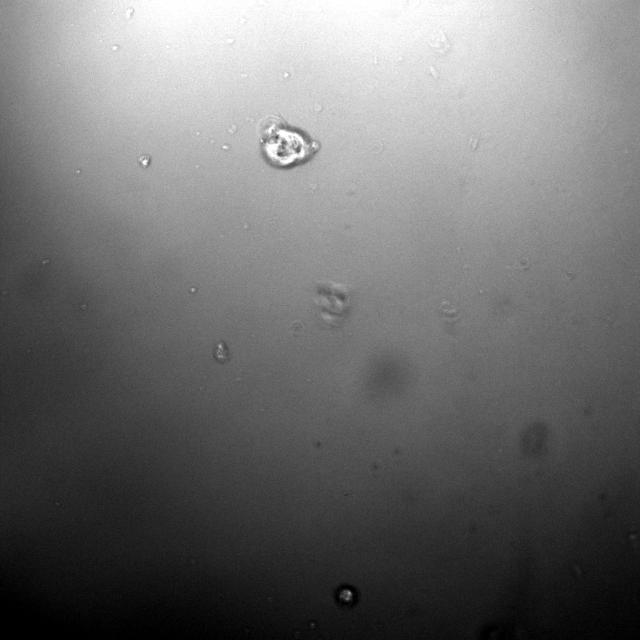organoid: (259, 115, 320, 168), (315, 282, 349, 325), (334, 583, 359, 608), (213, 341, 230, 364), (138, 154, 150, 168)
